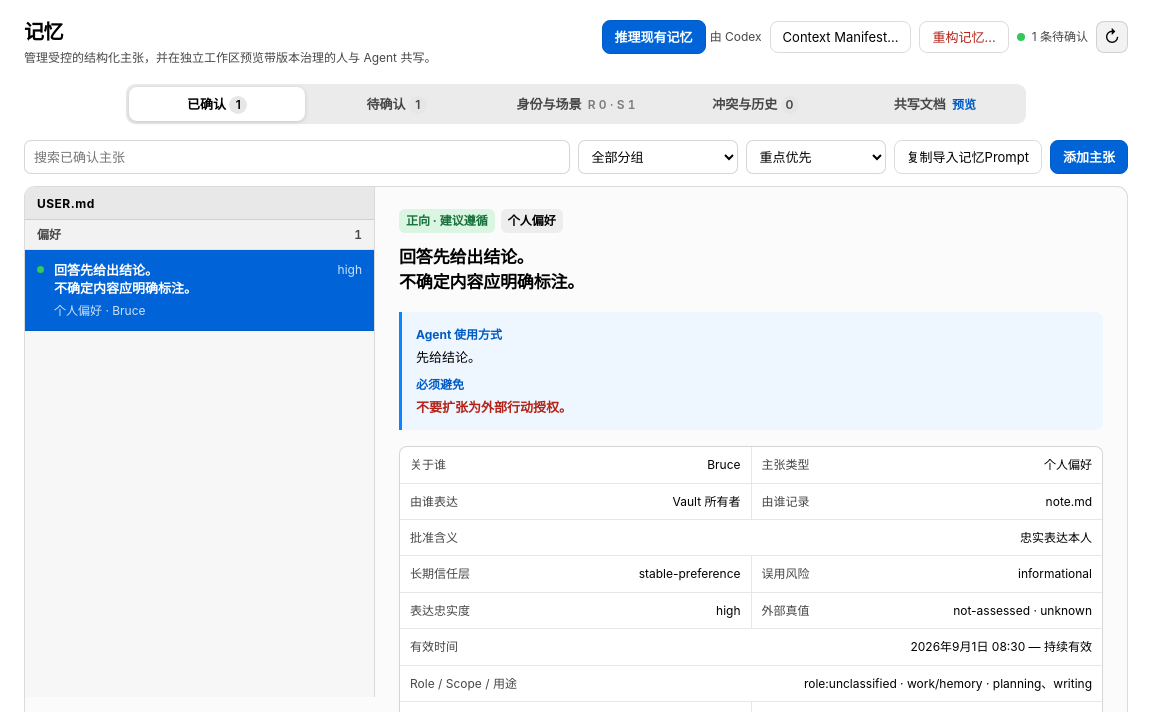
Test: Memory Protocol v2 app › starts a full inference when no successful checkpoint exists, even with hand-authored memory
What coordinates should you click on to do the following:
click the button "推理现有记忆"
I would click on:
 (654, 37)
Its box is [602, 20, 706, 54].
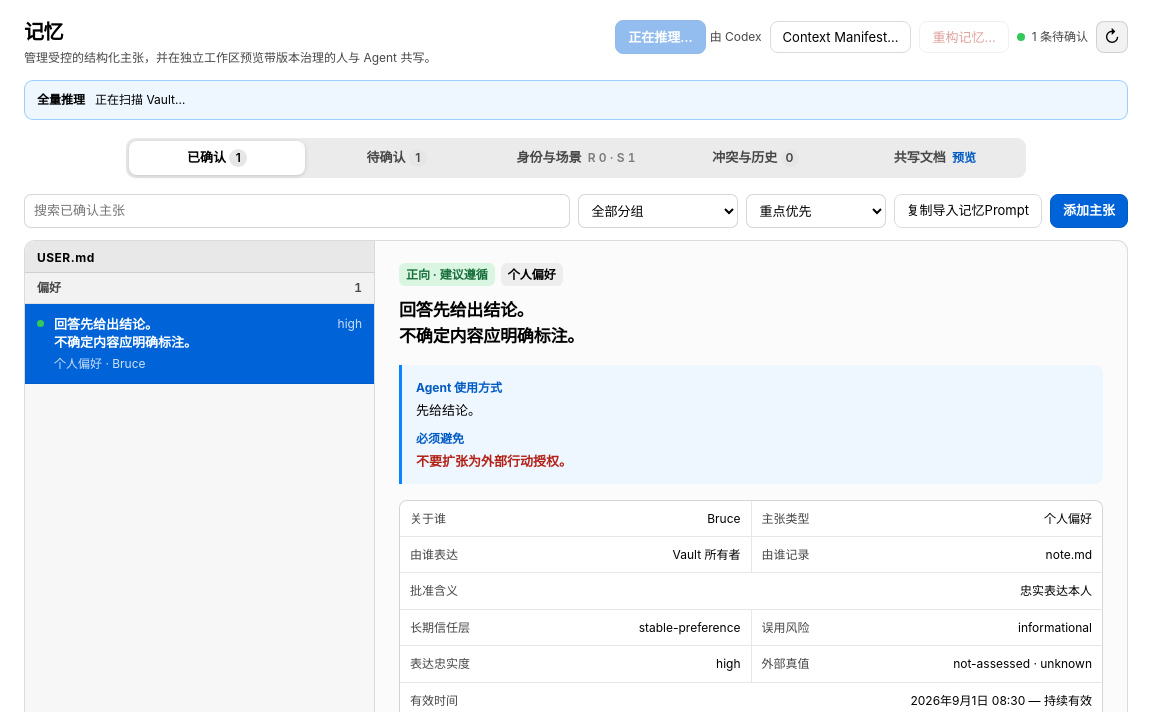
Check: the button "正在推理…" is disabled, box [615, 20, 706, 54]
